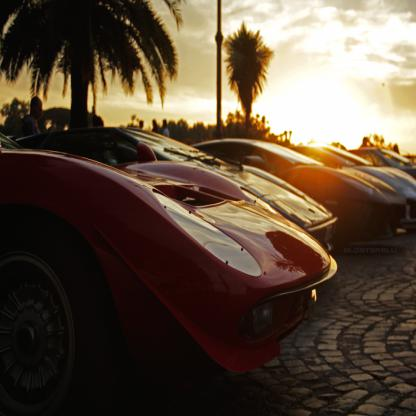Car: (0, 125, 415, 415)
